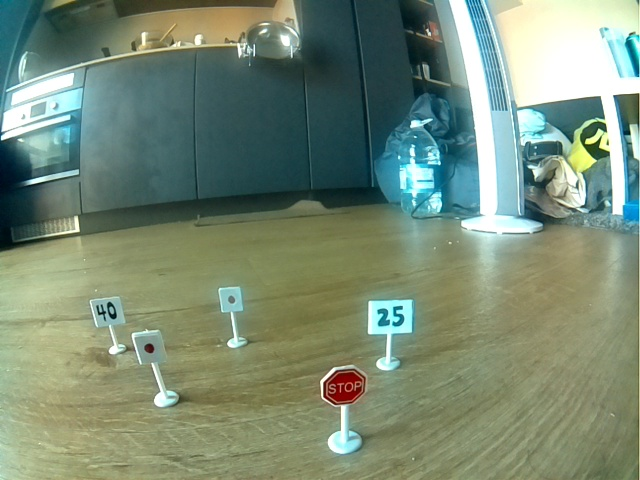red light: (134, 332, 166, 363), (220, 287, 242, 312)
speed 25: (369, 299, 412, 332)
speed 40: (90, 299, 125, 325)
stop: (323, 368, 366, 406)
